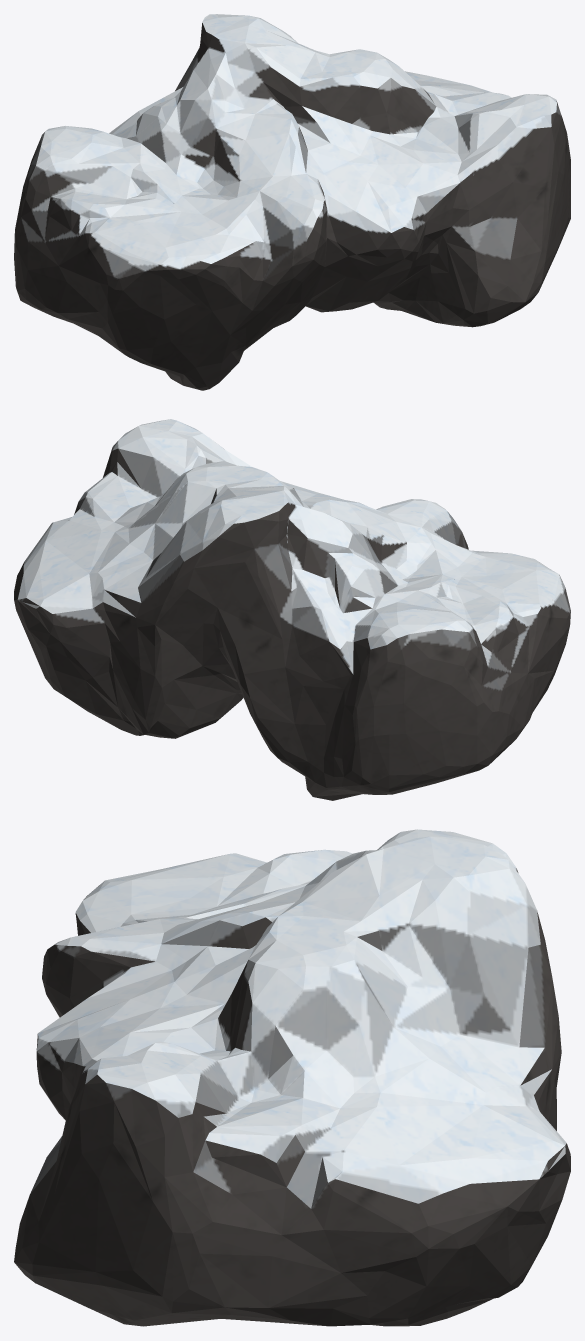
Rendered from cliff_05.gltf.
3 views of the same model, one above another, from view 1: azimuth 30°, elevation 25°; view 2: azimuth 150°, elevation 25°; view 3: azimuth 270°, elevation 25° (orthographic). The views are drawn at different scales.
Visible parts, largest first — view 1: cliff_05; view 2: cliff_05; view 3: cliff_05.
Part boxes in pixels (x1,y1,x2,y2): cliff_05: [14, 14, 570, 390]; cliff_05: [14, 419, 570, 800]; cliff_05: [14, 829, 570, 1326].
Size of the model in its own units: 15.08 by 8.49 by 10.34.
Materials: 1 (1 with a texture image).
